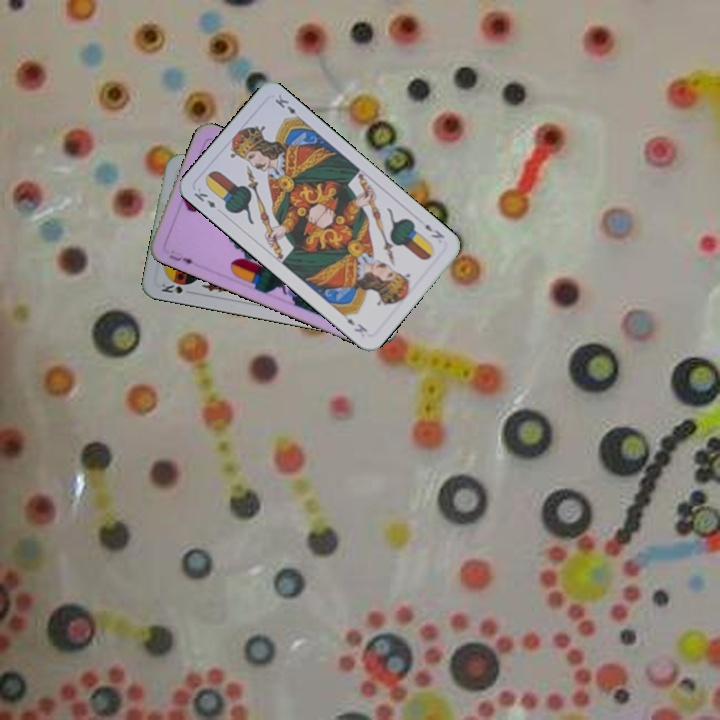EK: (190, 184, 218, 211), (421, 220, 447, 241)
EU: (165, 250, 196, 267)
SK: (157, 279, 185, 296)
